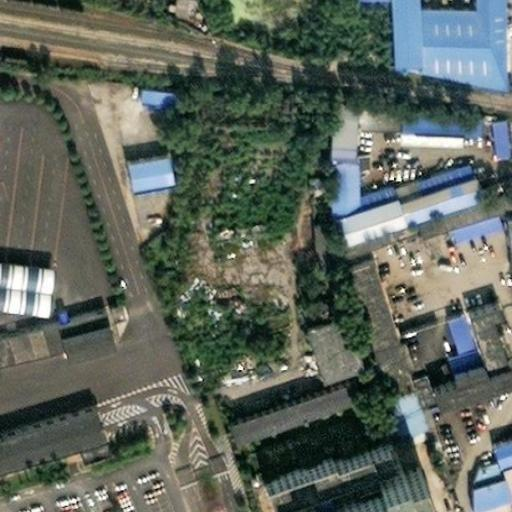building: (335, 249, 416, 423), (318, 148, 471, 236), (265, 449, 419, 512), (218, 368, 355, 430), (402, 0, 496, 79), (250, 430, 373, 487), (285, 286, 352, 376), (402, 178, 507, 230), (0, 400, 93, 457), (0, 300, 98, 348), (419, 351, 505, 402), (454, 297, 497, 361), (399, 315, 451, 366), (388, 102, 469, 134), (0, 250, 40, 304), (491, 206, 512, 305), (301, 214, 330, 282), (464, 444, 500, 492), (318, 86, 345, 148), (116, 144, 159, 181), (490, 443, 512, 512), (345, 97, 388, 120), (133, 73, 173, 94), (478, 108, 499, 144), (172, 458, 197, 484), (205, 448, 229, 473), (509, 402, 512, 413)
